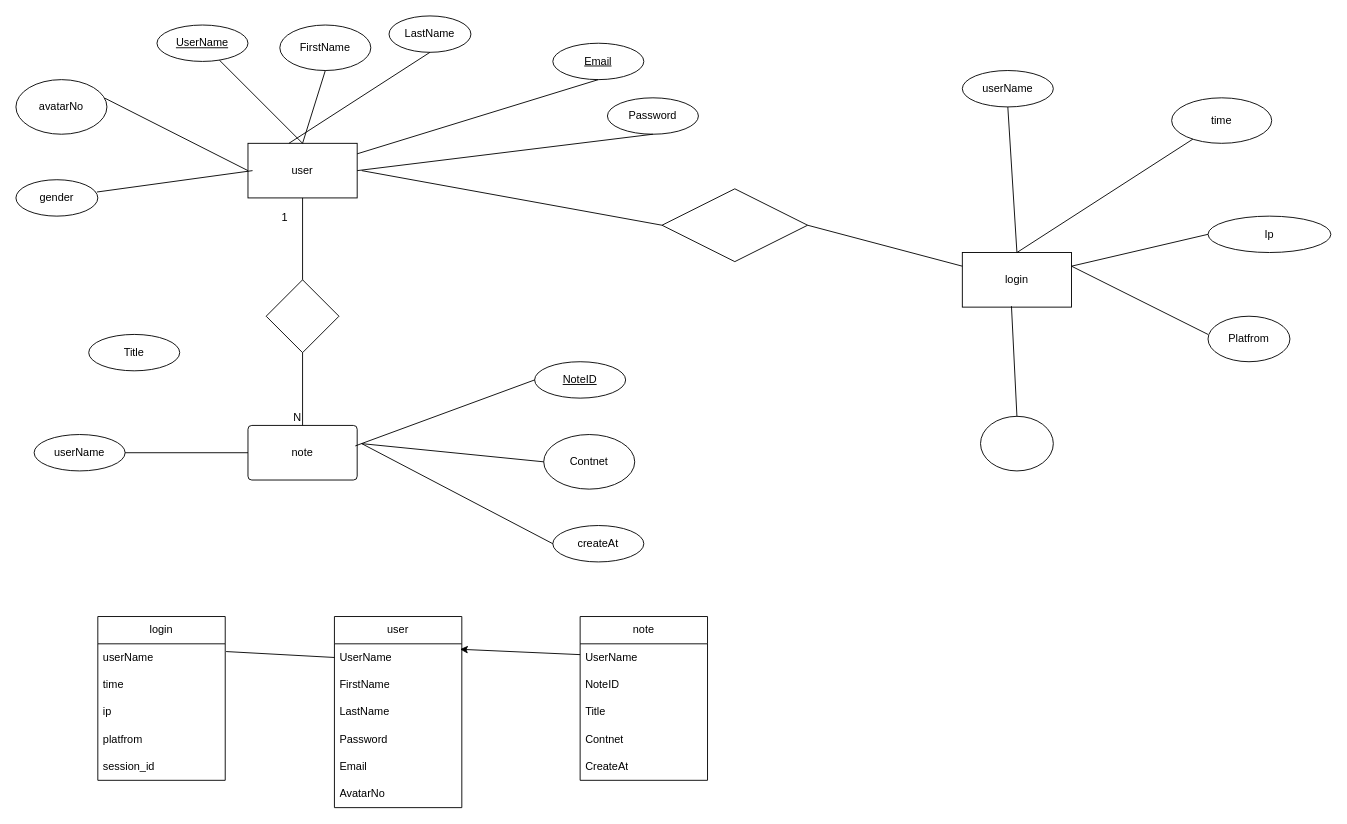
Image size: 1347x824. Some labels were removed from this diagram. Each missing label, with the box of its shape:
sesion_id: (980, 415, 1053, 471)
where login: (661, 188, 808, 262)
Write: (265, 279, 339, 353)
